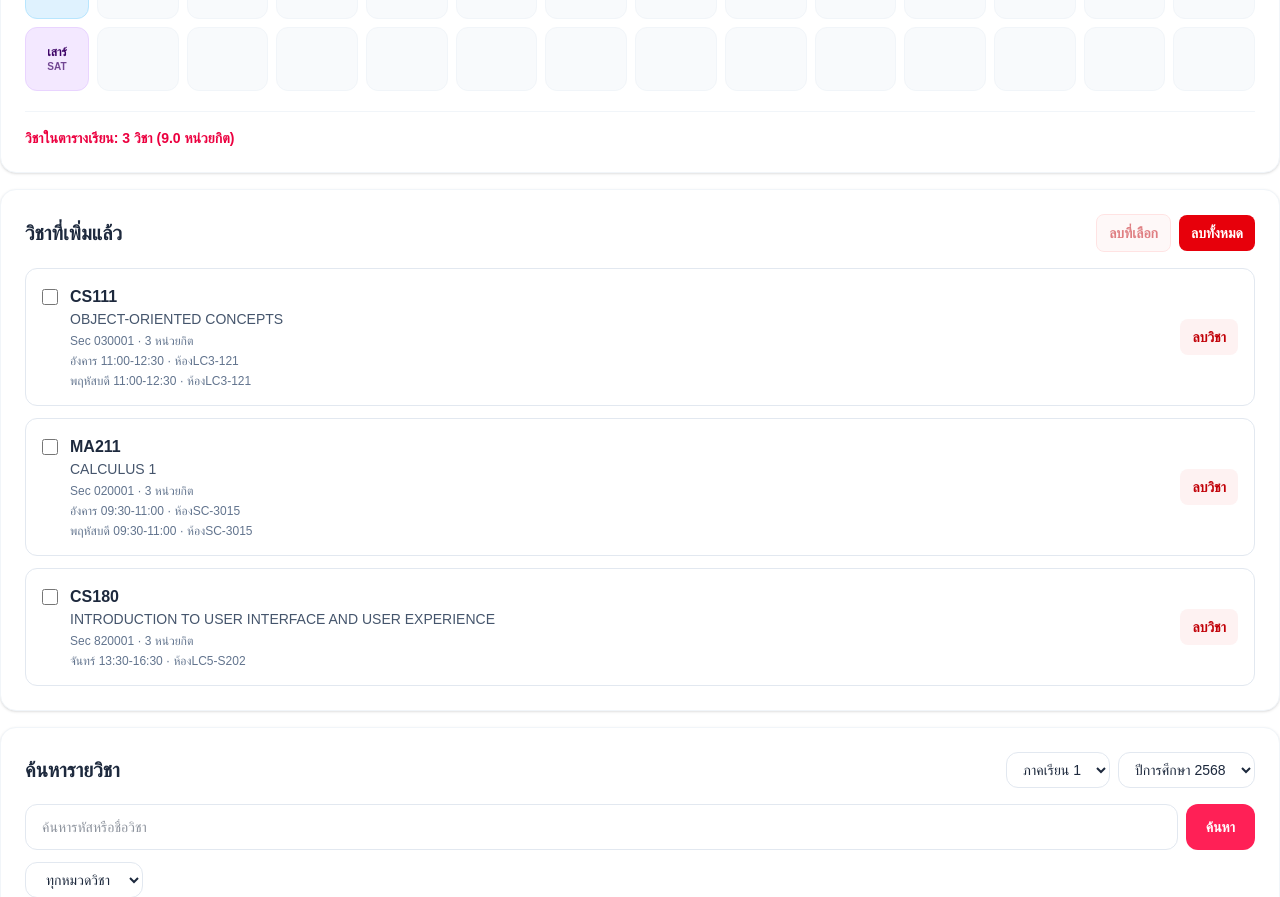
Test: US2-T10 ต่อปุ่มลบ ↔ API ↔ DB ตาม Sequence Diagram ของ US2-T06 › ติ๊กหลายวิชาแล้วลบ ส่ง entryId ของวิชาที่ติ๊ก และวิชาที่เหลือในตารางตรงกับ response
The width and height of the screenshot is (1280, 897).
(page scrolled)
Click the checkbox named "เลือกวิชา MA211": point(50, 447) left=42, top=439, right=58, bottom=455
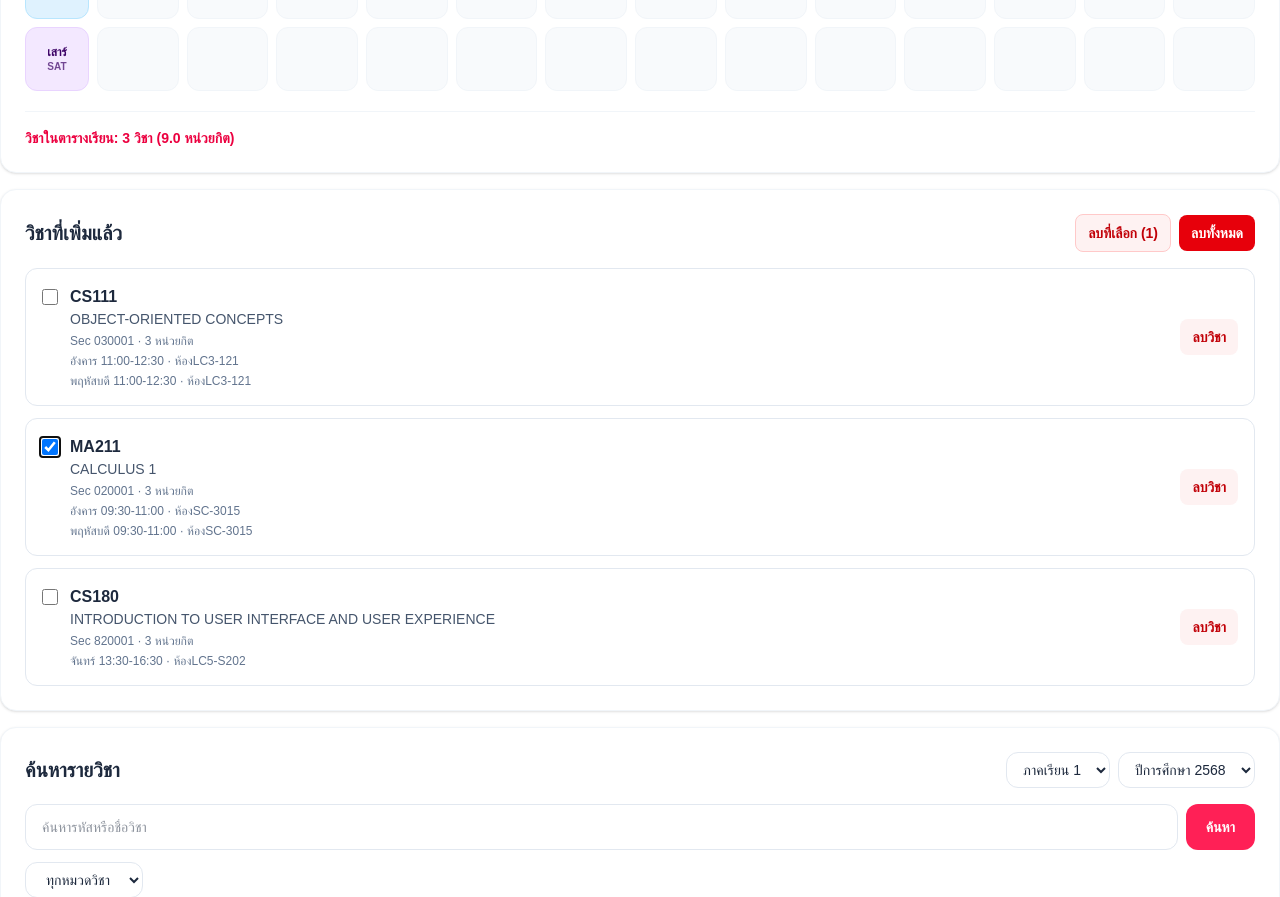
Click the checkbox named "เลือกวิชา CS180": point(50, 597) left=42, top=589, right=58, bottom=605
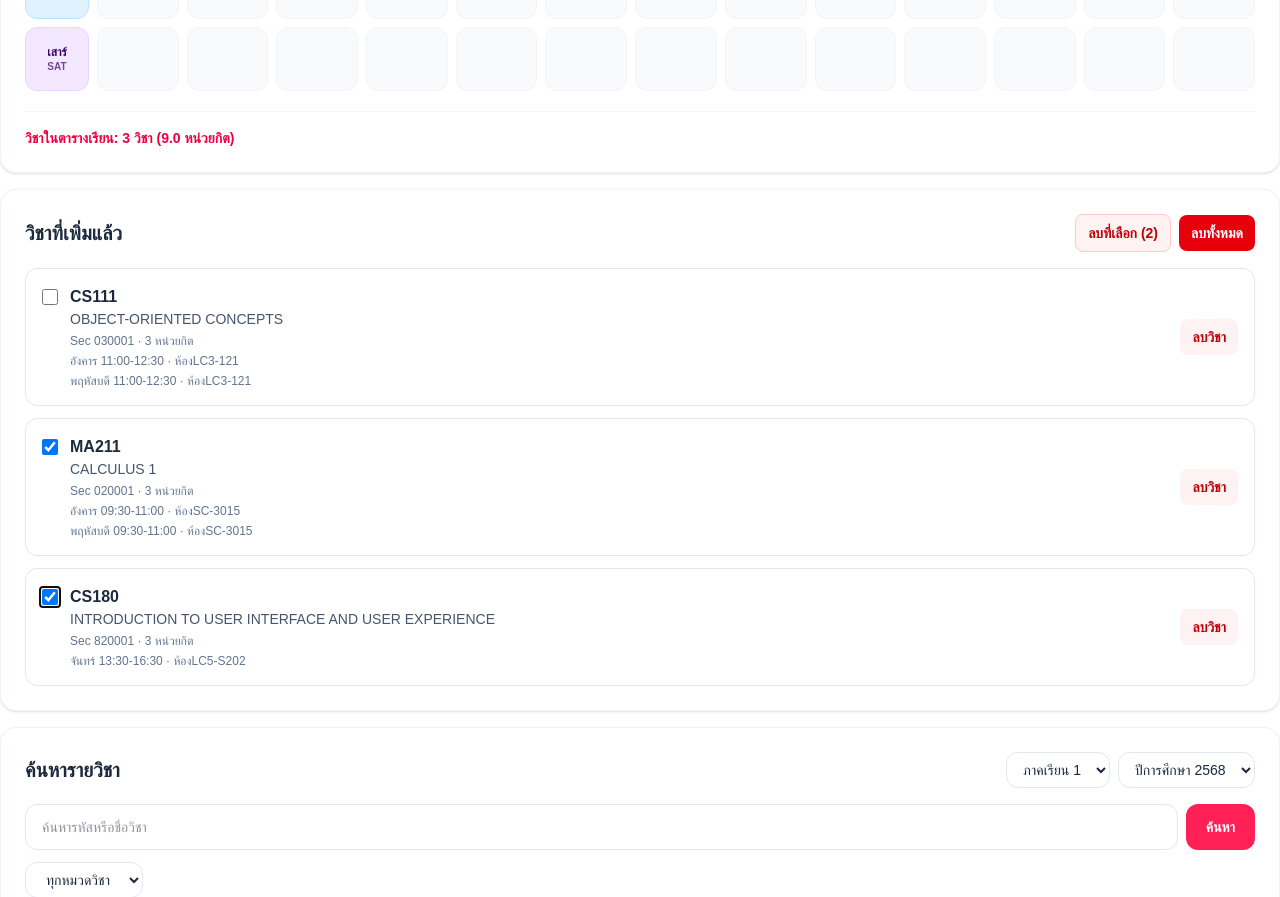
Click the button "ลบที่เลือก (2)": point(1123, 233) left=1075, top=214, right=1171, bottom=252
(page scrolled)
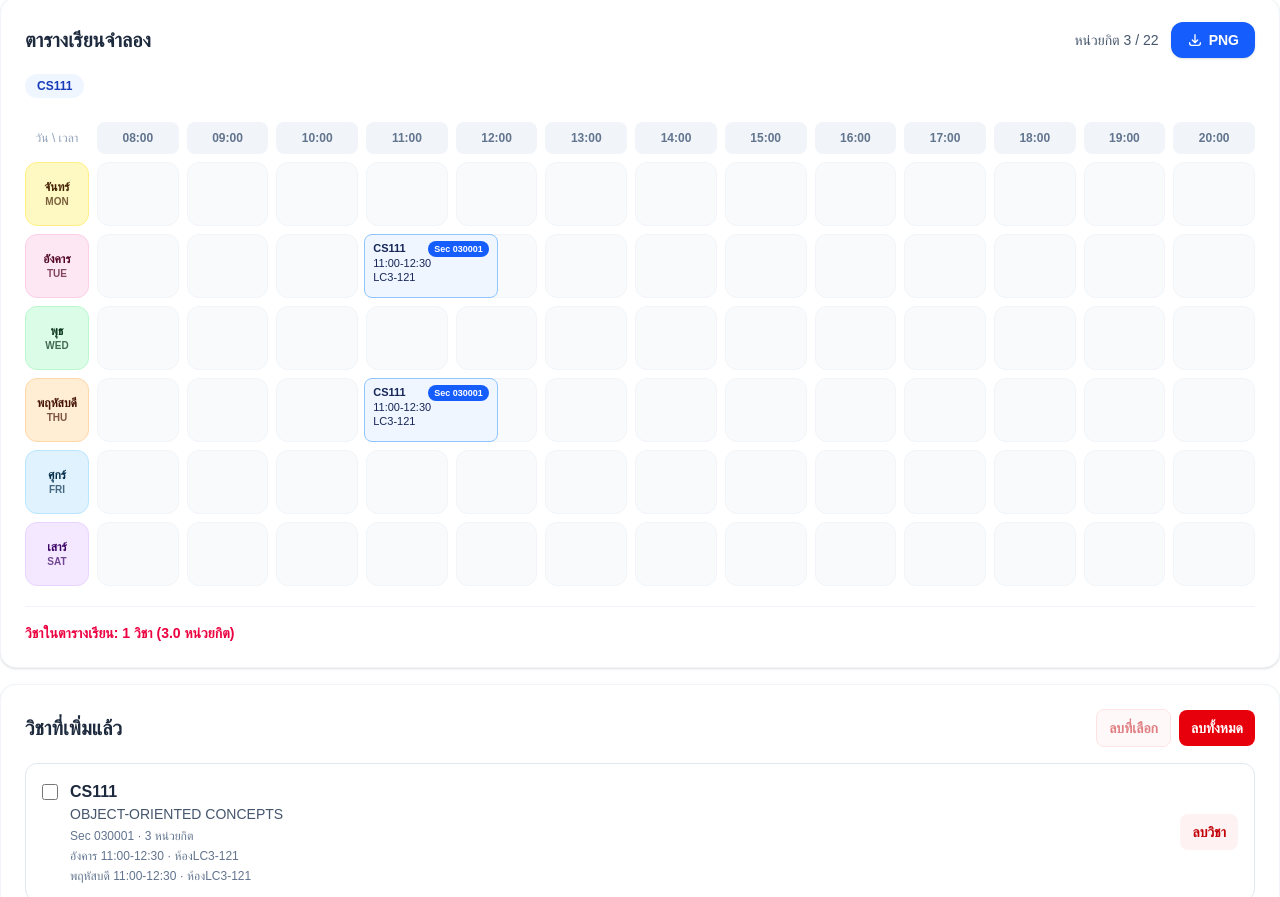
Expected: the text "หน่วยกิต 3 / 22" is shown, left=1074, top=32, right=1159, bottom=48
Expected: the text "CS111" is shown 2 times, left=373, top=242, right=406, bottom=256; left=373, top=386, right=406, bottom=400
